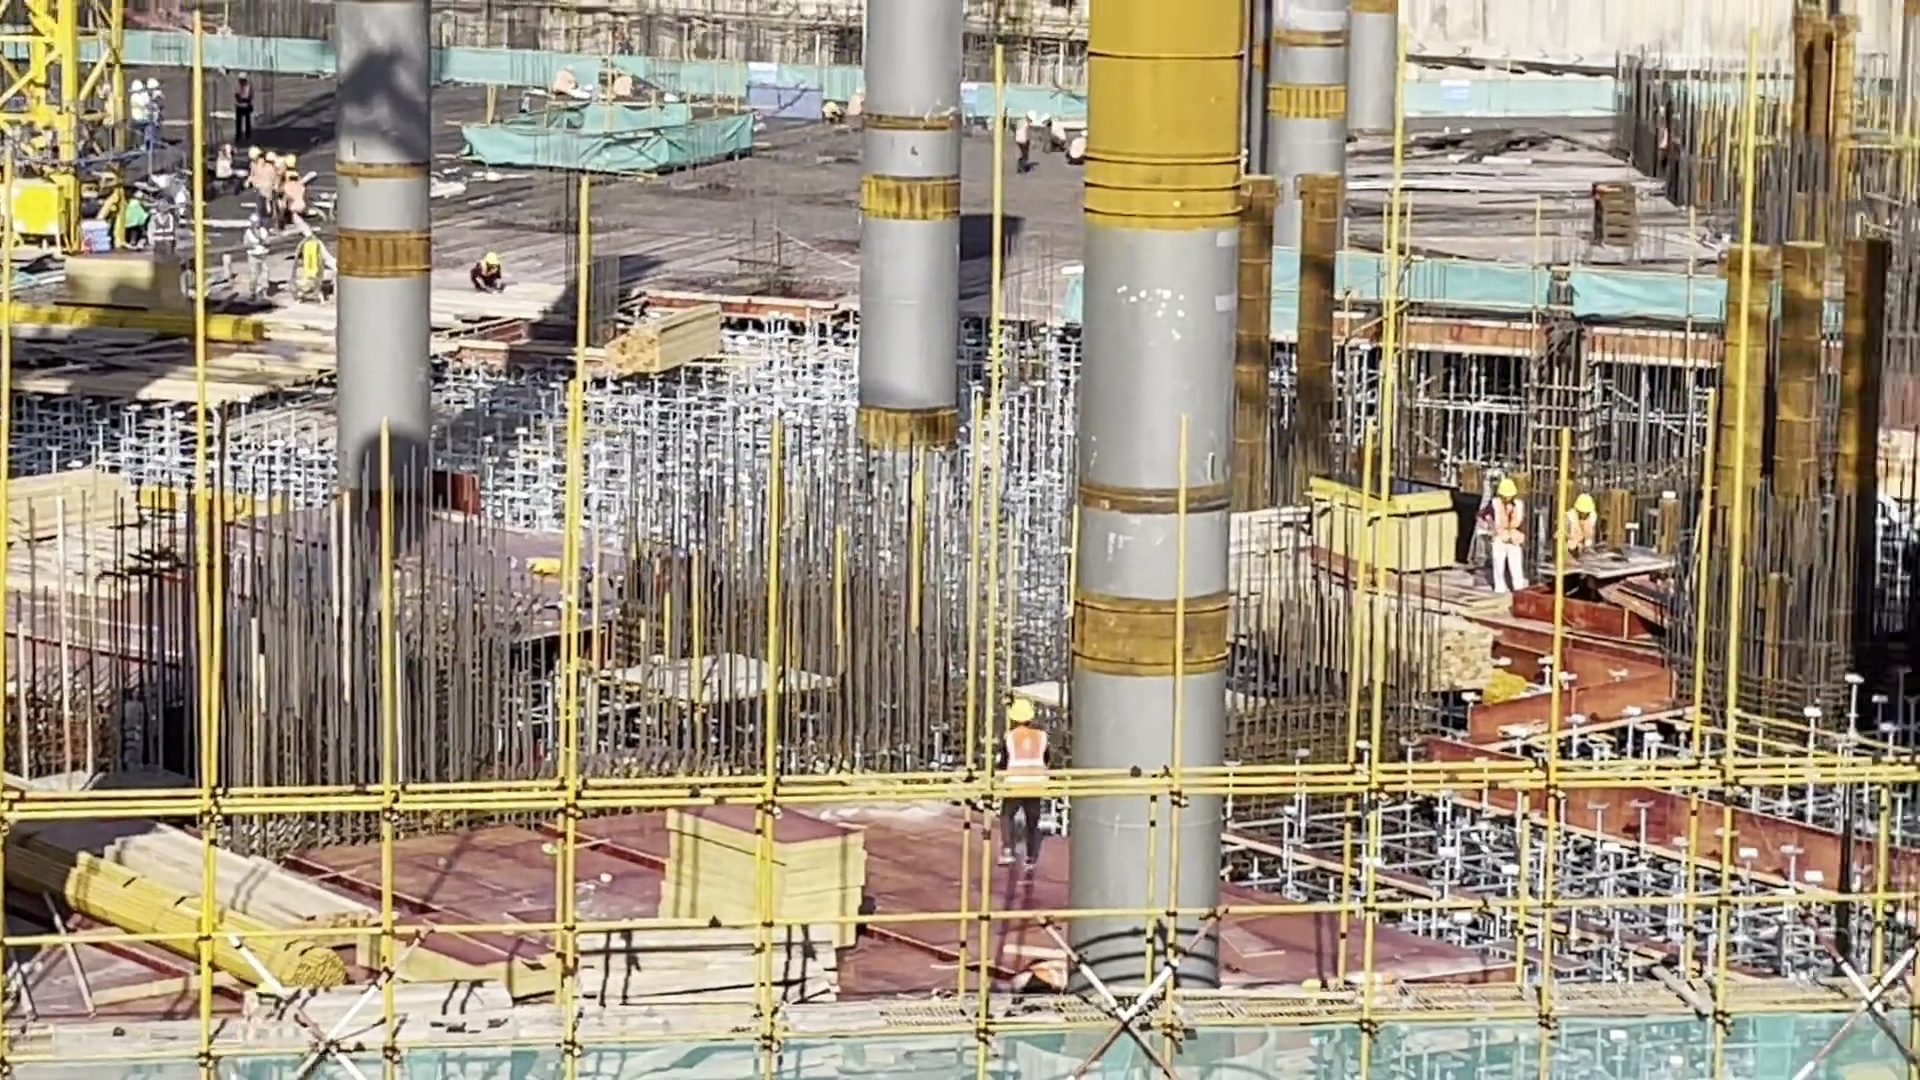board: (662, 784, 869, 972), (1311, 455, 1465, 577)
helmet: (1008, 696, 1036, 726), (1567, 493, 1600, 520), (1495, 480, 1520, 505), (482, 251, 502, 266)
person: (995, 691, 1058, 877), (1483, 472, 1531, 601), (290, 221, 337, 309), (1561, 488, 1605, 573), (244, 210, 275, 306), (151, 190, 184, 273), (231, 66, 259, 141), (467, 249, 510, 295), (280, 168, 311, 228), (1015, 105, 1039, 184), (266, 145, 287, 228), (127, 185, 151, 254), (245, 144, 270, 213), (215, 140, 245, 197), (1067, 124, 1098, 176), (149, 71, 169, 152), (129, 79, 153, 142), (1044, 108, 1071, 158)
vest: (1005, 728, 1051, 801), (1492, 500, 1523, 549), (1569, 516, 1597, 563), (152, 210, 180, 254), (234, 85, 254, 117)
wood: (94, 816, 390, 937), (544, 919, 838, 1028), (1, 464, 137, 557), (606, 299, 725, 385)
